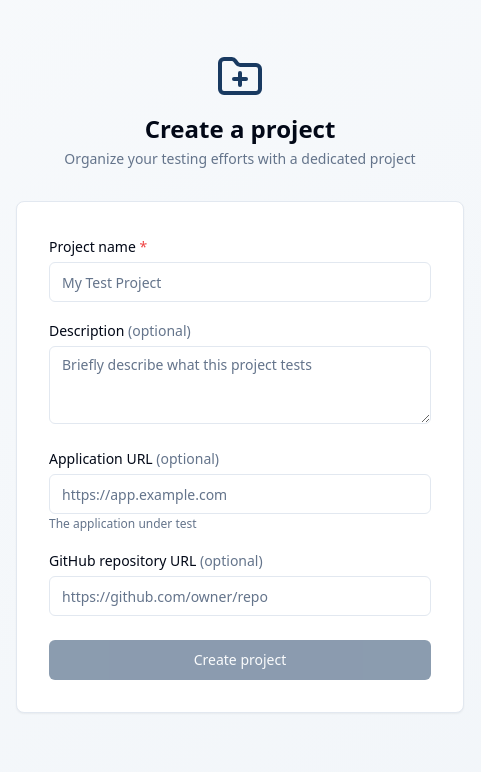
Test case: CreateProjectPage › Duplicate name error (AC6) › shows "already exists" message when API error message contains "already exists"
Step 1. Type "Duplicate Project" into the field with test id "input-project-name" → {"x": 240, "y": 282}, box [49,262,431,302]
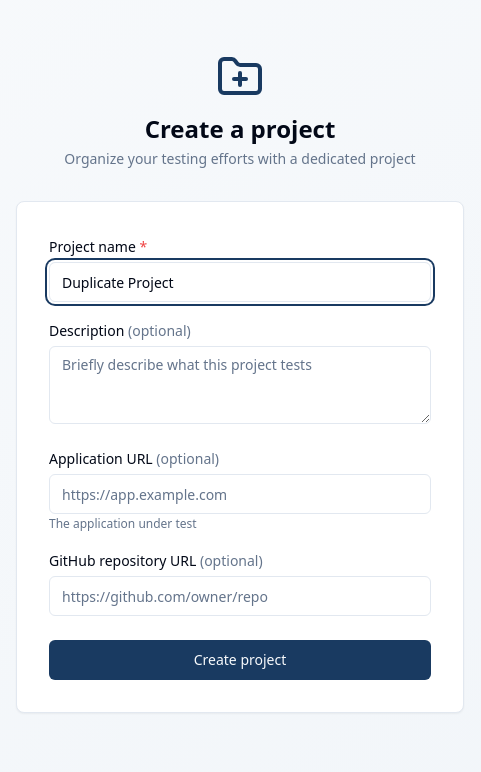
Step 2. Click the button with test id "submit-btn" → {"x": 240, "y": 660}, box [49,640,431,680]
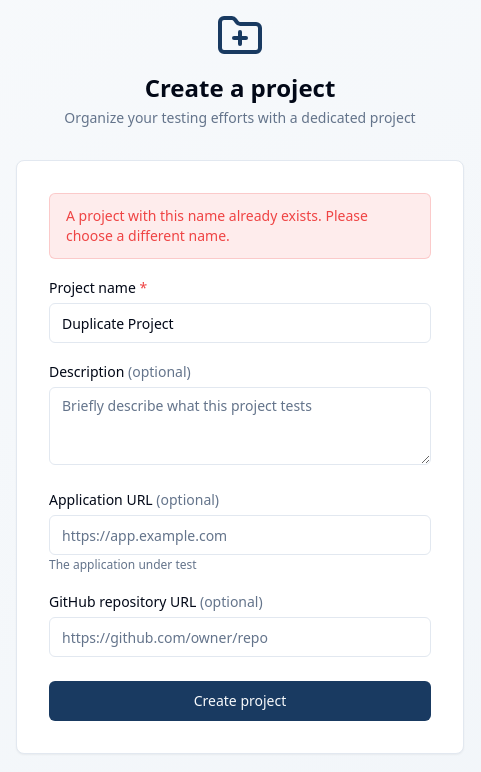
Check: the message with test id "server-error" shows "already exists", box [66,206,368,245]
